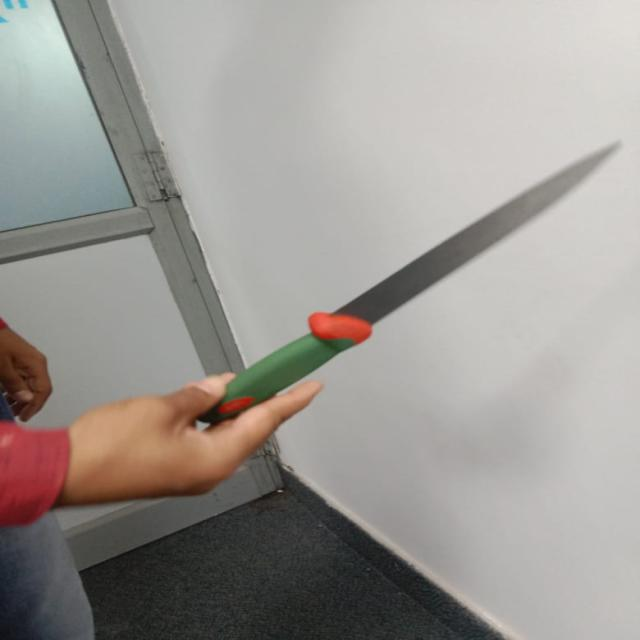Knife: (199, 142, 620, 424)
